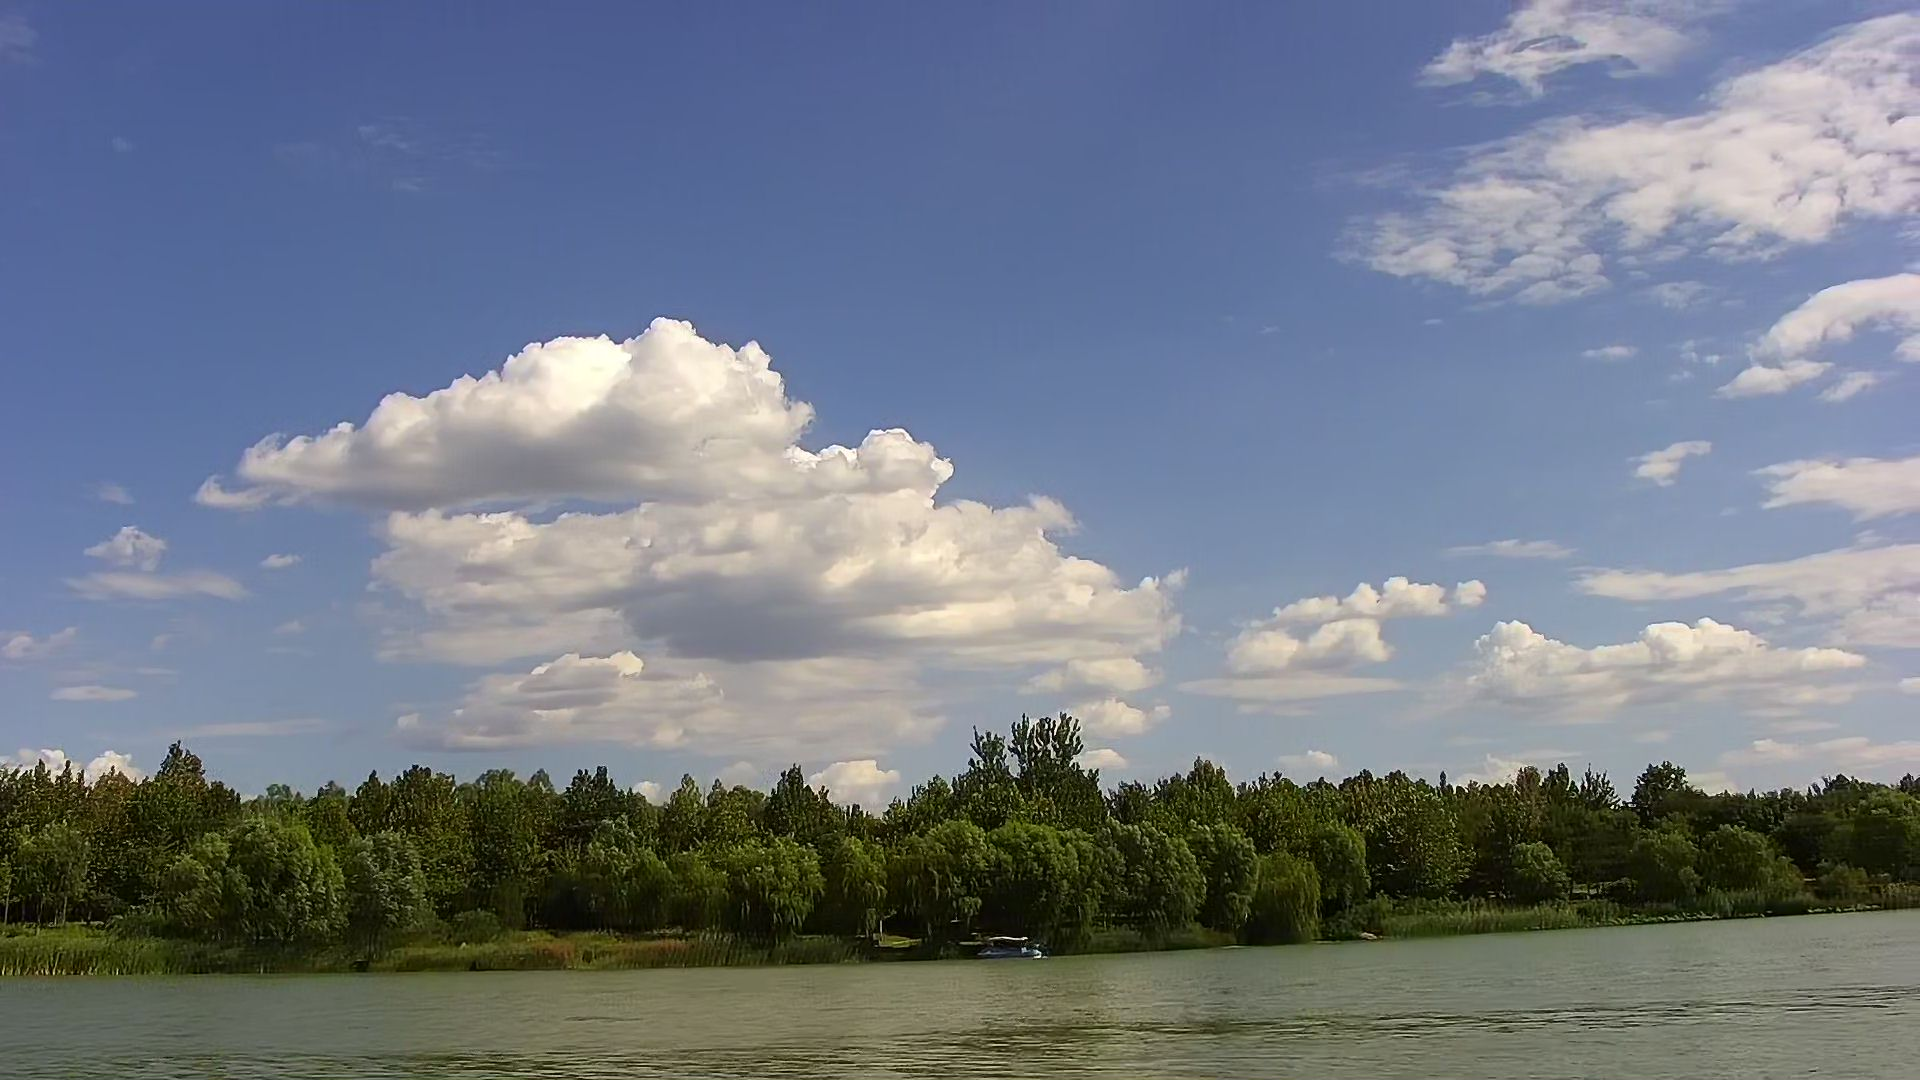boat: (972, 934, 1048, 963)
